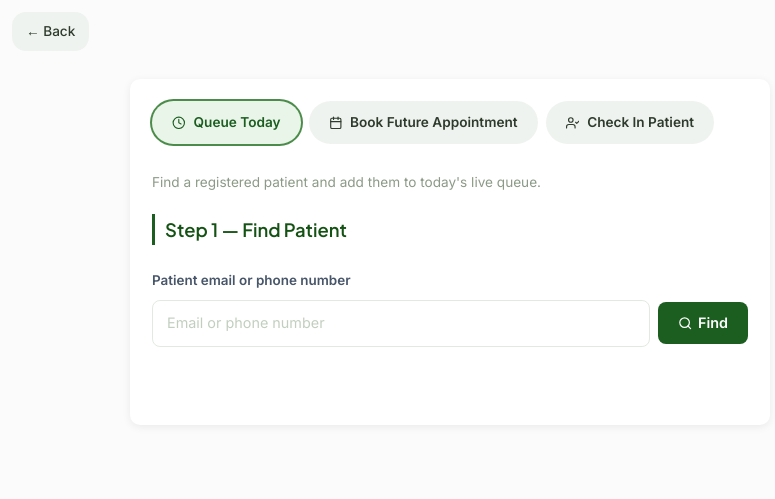
it: Patient search › shows error if patient not found
Step 1. Type "john@example.com" into the field with placeholder "Email or phone number" → (401, 323), box [152,300,650,347]
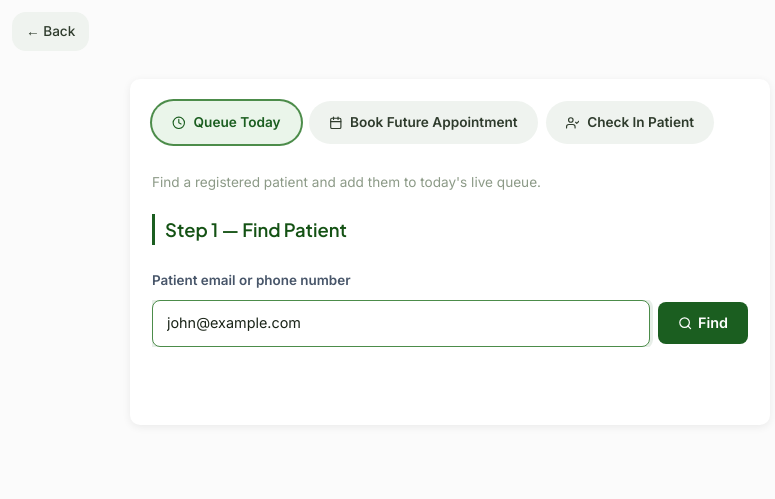
Step 2. Click the button "Find" → (703, 323), box [658,302,748,344]
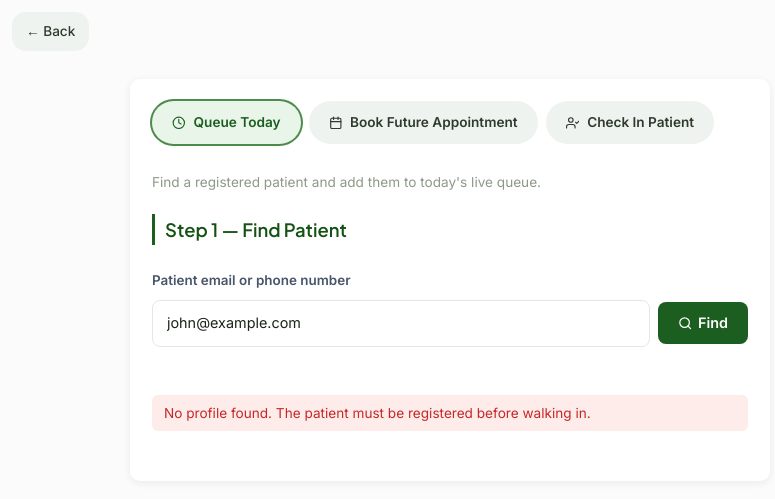
Check: the text "No profile found" is shown, box [164,404,591,420]
